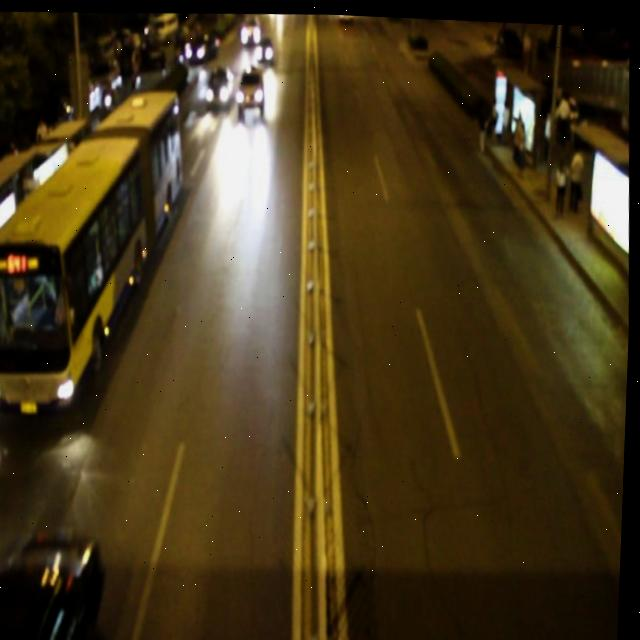car: (0, 523, 112, 640), (233, 64, 266, 113), (204, 61, 233, 109), (252, 32, 274, 63)
van: (0, 79, 189, 415)
